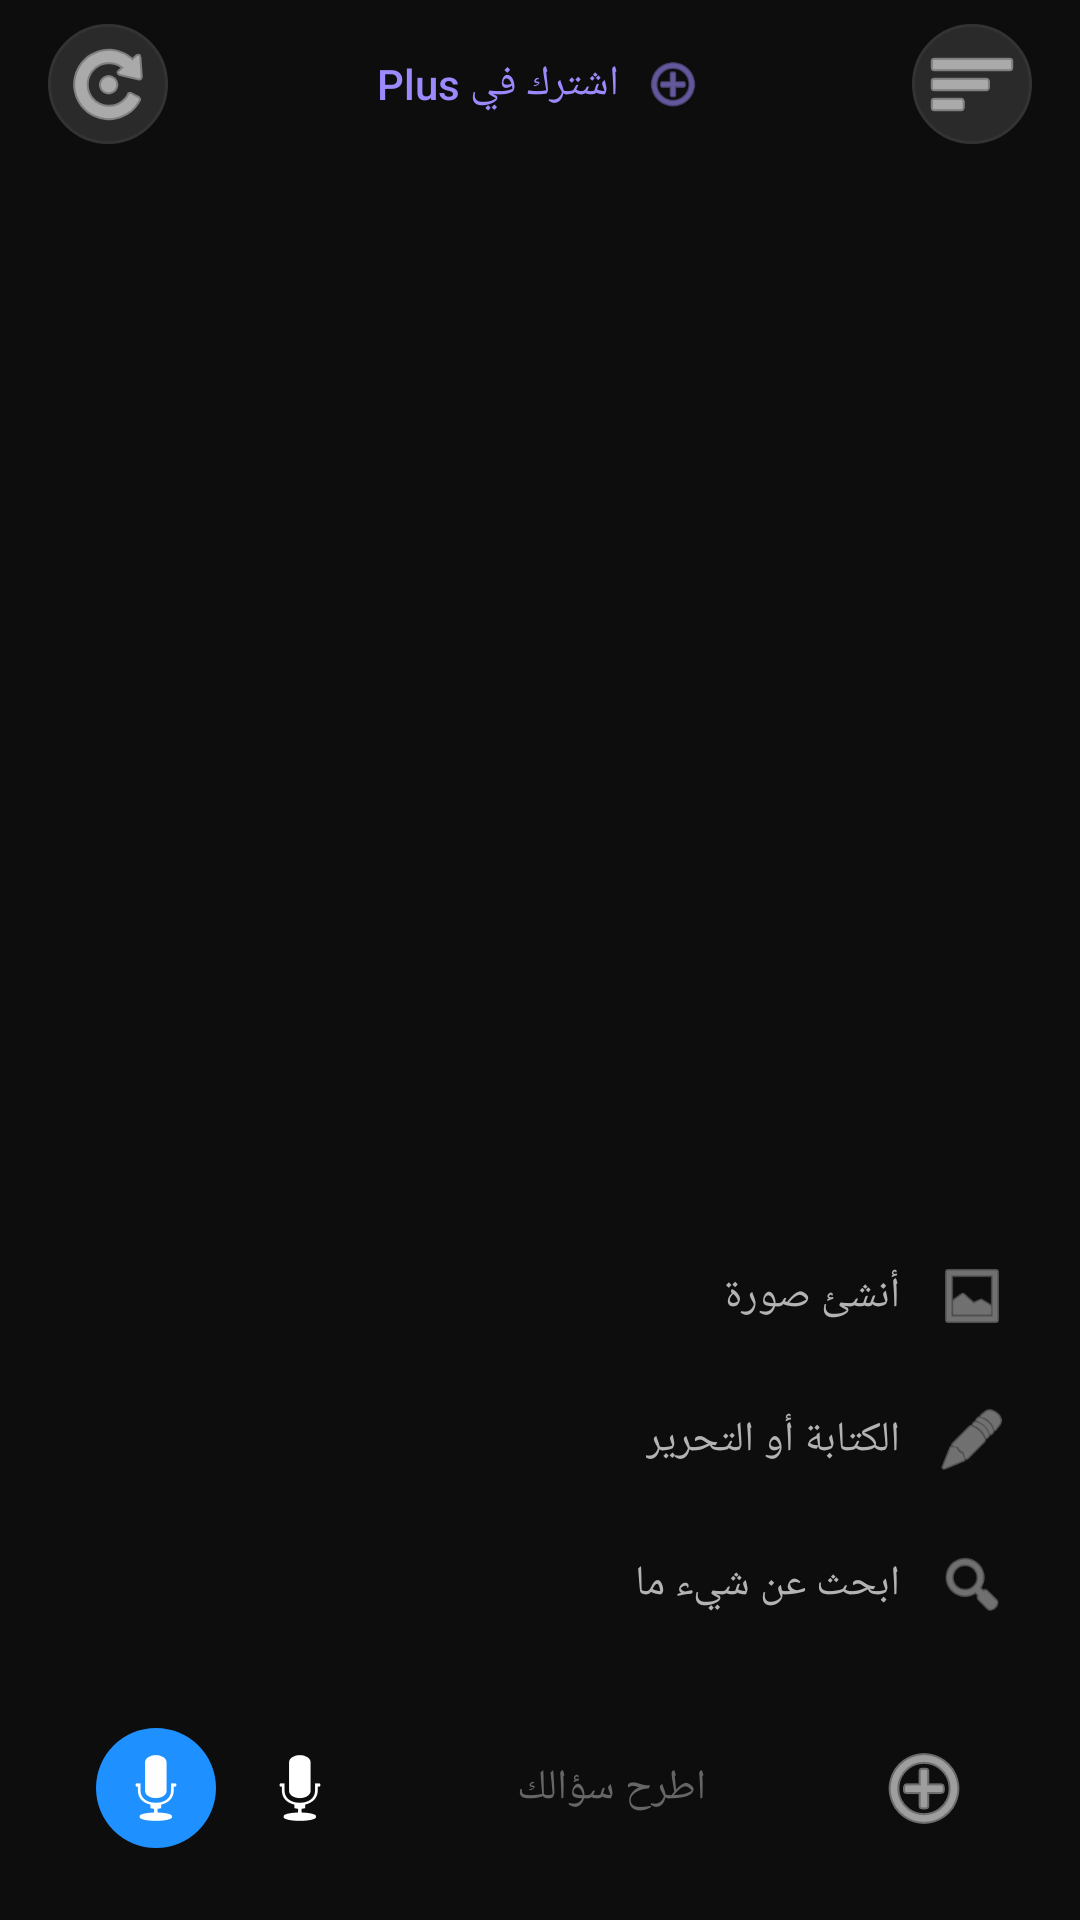

Icons on this 1080px x 1920px Android screen, each with its box as box(x1, y1, x2, y2):
add: box(651, 62, 695, 107), box(888, 1753, 960, 1824)
edit: box(941, 1409, 1002, 1470)
gallery: box(945, 1269, 999, 1323)
rotate: box(48, 24, 168, 144)
search: box(945, 1558, 999, 1611)
sort by size: box(912, 24, 1032, 144)
speak now: box(96, 1728, 216, 1848), box(279, 1755, 321, 1821)
